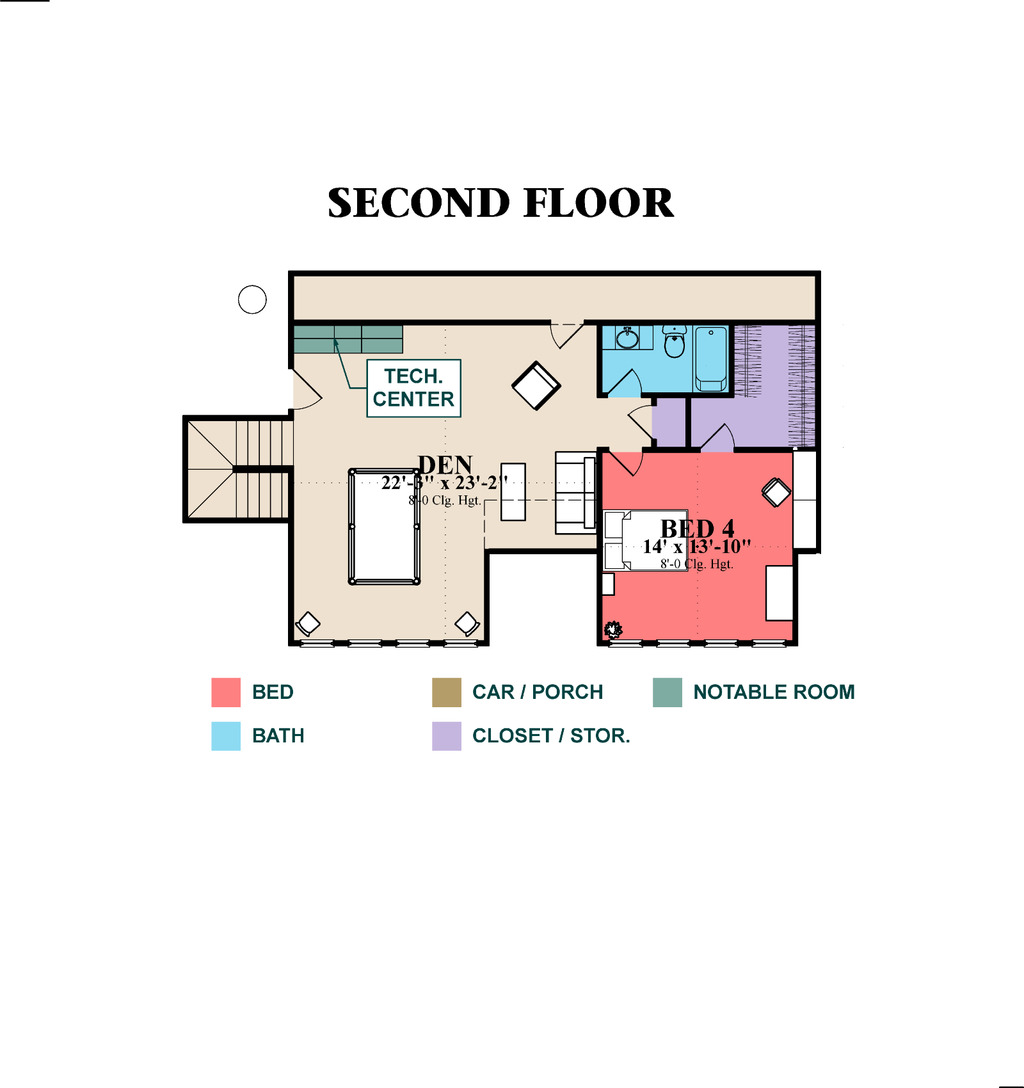bed: (600, 511, 702, 573)
door: (608, 438, 652, 482), (539, 316, 590, 350), (288, 365, 322, 414), (698, 423, 742, 460), (614, 368, 646, 399), (629, 407, 656, 441)
large_sink: (659, 319, 683, 367)
small_sink: (605, 326, 654, 350)
stairs: (175, 411, 310, 528)
tub: (691, 324, 732, 397)
window: (603, 626, 790, 655), (310, 633, 481, 656)
